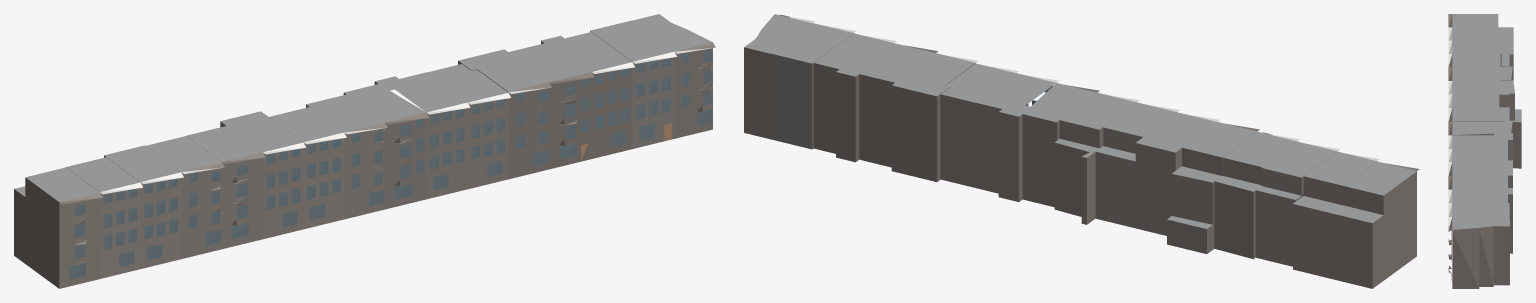
Rendered from chunk-face-eems-6-78.lod2.glb.
3 views of the same model, side by side, from view 1: azimuth 30°, elevation 25°; view 2: azimuth 150°, elevation 25°; view 3: azimuth 270°, elevation 25° (orthographic). The views are drawn at different scales.
Parts seen in each view (by area): view 1: lod2; view 2: lod2; view 3: lod2.
Boxes of the visible parts, x1=… form: lod2: x1=14, y1=14, x2=715, y2=288; lod2: x1=744, y1=14, x2=1419, y2=288; lod2: x1=1448, y1=14, x2=1521, y2=288.
Size of the model in its own units: 97.82 by 12.49 by 14.06.
